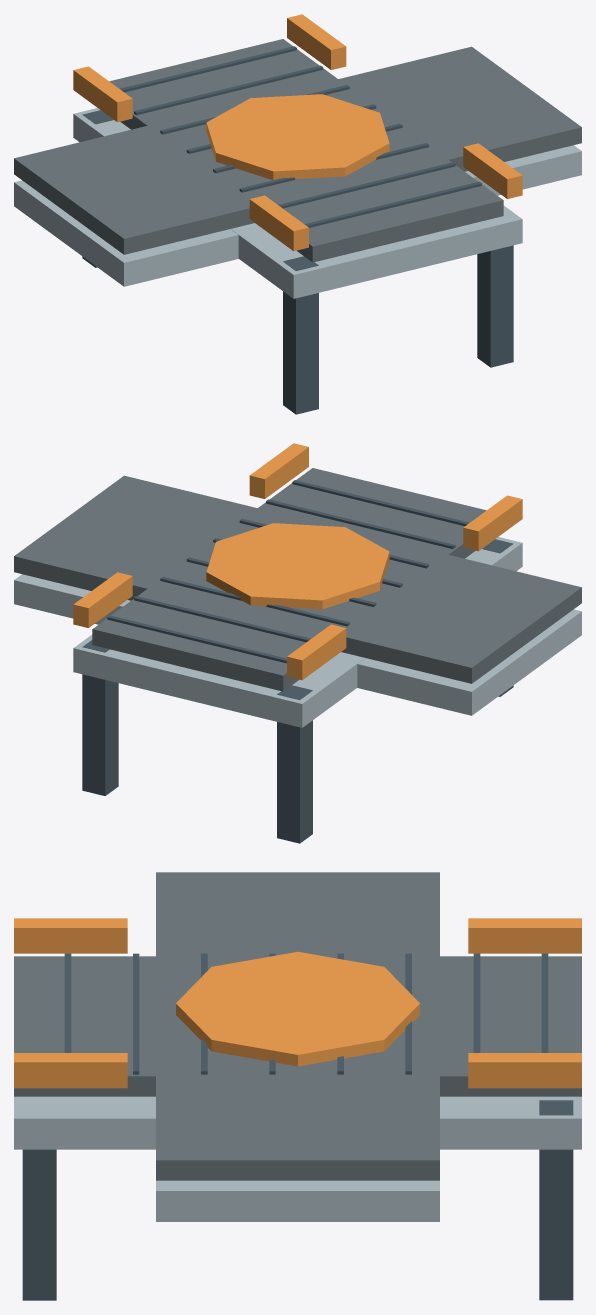
Rendered from four-way-sorting-junction.glb.
The picture shows the model from 3 angles, top to bottom: view 1: azimuth 30°, elevation 25°; view 2: azimuth 150°, elevation 25°; view 3: azimuth 270°, elevation 25°; orthographic projection. The views are drawn at different scales.
Visible parts, largest first — view 1: rubber, steel, orange, dark; view 2: rubber, steel, orange, dark; view 3: rubber, orange, steel, dark.
Part boxes in pixels (box(x1,y1,x2,y2)): rubber: box(14, 39, 581, 262); steel: box(14, 108, 581, 298); orange: box(73, 14, 522, 251); dark: box(82, 46, 513, 414); rubber: box(14, 468, 581, 691); steel: box(14, 537, 581, 727); orange: box(73, 443, 522, 680); dark: box(82, 480, 513, 843); rubber: box(14, 872, 581, 1180); orange: box(14, 918, 581, 1088); steel: box(14, 1096, 581, 1221); dark: box(22, 953, 573, 1300).
Bounding box in the file's own units: 2.4 × 0.9401 × 2.
